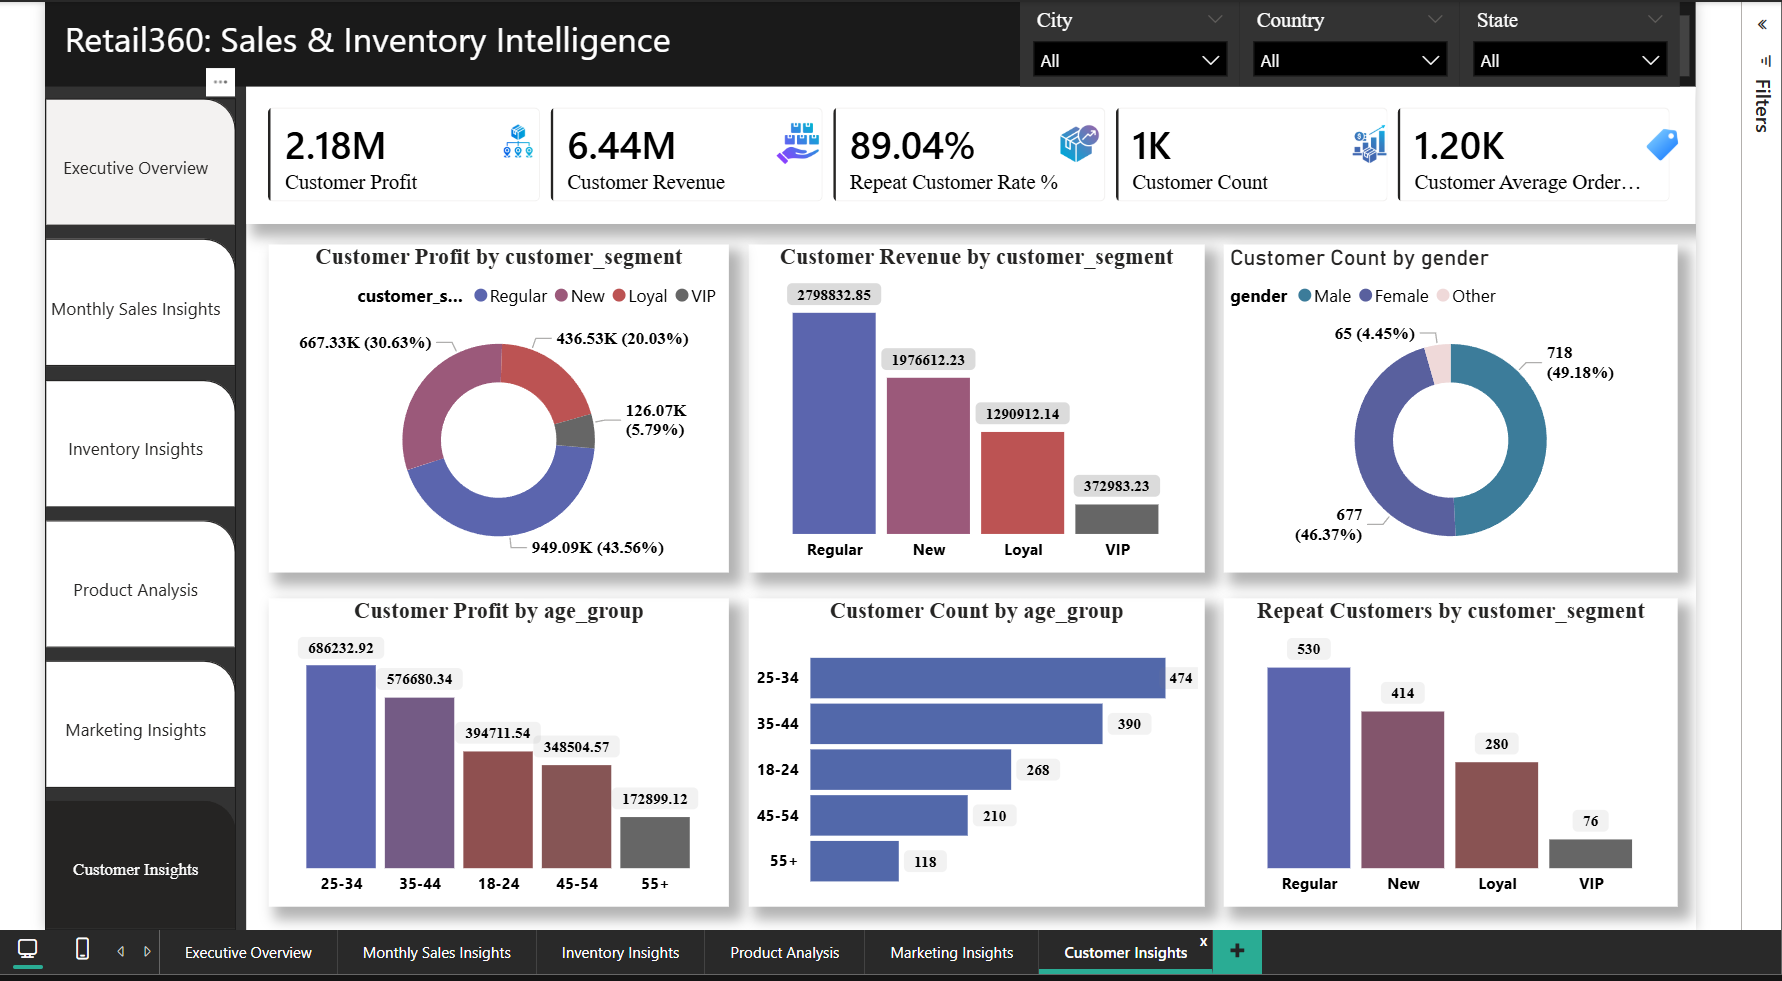

The dashboard page shown, as its layout file describes it:
{"tool":"powerbi","page":{"name":"Customer Insights","canvas":[1280,720],"ordinal":5},"visuals":[{"type":"textbox","box":[0,65,156.2,655],"z":0},{"type":"cardVisual","fields":{"Data":["Dax measure.Customer Profit","Dax measure.Customer Revenue","Dax measure.Repeat Customer Rate %","Dax measure.Customer Count","Dax measure.Customer Average Order Value"]},"box":[156.2,65,1123.8,107.5],"z":1000},{"type":"textbox","box":[0,0,1280.3,65.3],"z":2000},{"type":"slicer","fields":{"Values":["vw_customer_analytics.customer_country"]},"box":[926.9,0,170.5,65.4],"z":3000},{"type":"slicer","fields":{"Values":["vw_customer_analytics.customer_state"]},"box":[1097.4,0,170.5,65.4],"z":4000},{"type":"slicer","fields":{"Values":["vw_customer_analytics.customer_city"]},"box":[756.4,0,170.5,65.4],"z":5000},{"type":"image","box":[351.2,95.3,32.6,25.6],"z":6000},{"type":"image","box":[773.3,93,57,33.7],"z":7000},{"type":"image","box":[559.3,93,48.8,33.7],"z":8000},{"type":"image","box":[1011.6,95.3,30.2,30.2],"z":9000},{"type":"image","box":[1239.5,97.7,29.1,25.6],"z":10000},{"type":"clusteredColumnChart","fields":{"Y":["Dax measure.Customer Profit"],"Category":["vw_customer_analytics.age_group"]},"box":[173.3,462.8,357,239.5],"z":11000},{"type":"clusteredBarChart","fields":{"Category":["vw_customer_analytics.age_group"],"Y":["Dax measure.Customer Count"]},"box":[545.4,462.8,353.5,239.5],"z":12000},{"type":"lineClusteredColumnComboChart","fields":{"Category":["vw_customer_analytics.customer_segment"],"Y":["Dax measure.Customer Revenue"]},"box":[545.4,188.4,353.5,254.7],"z":13000},{"type":"donutChart","fields":{"Category":["vw_customer_analytics.gender"],"Y":["Dax measure.Customer Count"]},"box":[914,188.4,352.3,254.7],"z":14000},{"type":"donutChart","fields":{"Y":["Dax measure.Customer Profit"],"Category":["vw_customer_analytics.customer_segment"]},"box":[173.3,188.4,357,254.7],"z":15000},{"type":"clusteredColumnChart","fields":{"Y":["Dax measure.Repeat Customers"],"Category":["vw_customer_analytics.customer_segment"]},"box":[914,462.8,352.3,239.5],"z":16000},{"type":"pageNavigator","box":[0,74.9,148.7,645.3],"z":16001}]}

Visuals, with their boxes on the page's 1280x720 design canvas (x1, y1, x2, y2). These are canvas units, not pixel positions in the 1782x981 screenshot, which may show the page scaled, cropped or inside an application window:
textbox: select_region(0, 65, 156, 720)
cardVisual - Dax measure.Customer Profit x Dax measure.Customer Revenue: select_region(156, 65, 1280, 172)
textbox: select_region(0, 0, 1280, 65)
slicer - vw_customer_analytics.customer_country: select_region(927, 0, 1097, 65)
slicer - vw_customer_analytics.customer_state: select_region(1097, 0, 1268, 65)
slicer - vw_customer_analytics.customer_city: select_region(756, 0, 927, 65)
image: select_region(351, 95, 384, 121)
image: select_region(773, 93, 830, 127)
image: select_region(559, 93, 608, 127)
image: select_region(1012, 95, 1042, 126)
image: select_region(1240, 98, 1269, 123)
clusteredColumnChart - Dax measure.Customer Profit x vw_customer_analytics.age_group: select_region(173, 463, 530, 702)
clusteredBarChart - vw_customer_analytics.age_group x Dax measure.Customer Count: select_region(545, 463, 899, 702)
lineClusteredColumnComboChart - vw_customer_analytics.customer_segment x Dax measure.Customer Revenue: select_region(545, 188, 899, 443)
donutChart - vw_customer_analytics.gender x Dax measure.Customer Count: select_region(914, 188, 1266, 443)
donutChart - Dax measure.Customer Profit x vw_customer_analytics.customer_segment: select_region(173, 188, 530, 443)
clusteredColumnChart - Dax measure.Repeat Customers x vw_customer_analytics.customer_segment: select_region(914, 463, 1266, 702)
pageNavigator: select_region(0, 75, 149, 720)
